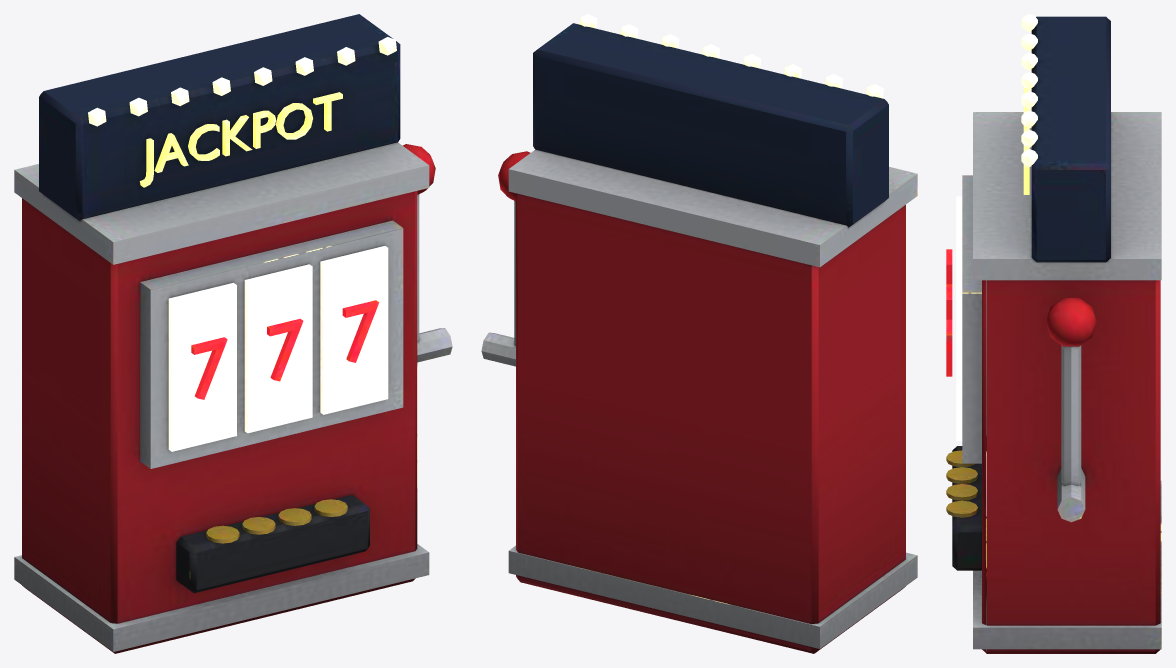
Rendered from tragaperras.glb.
3 renders of one model, left to right at view 1: azimuth 30°, elevation 25°; view 2: azimuth 150°, elevation 25°; view 3: azimuth 270°, elevation 25°, orthographic. The views are drawn at different scales.
Parts seen in each view (by area): view 1: tragaperras; view 2: tragaperras; view 3: tragaperras.
Part boxes in pixels (x1,y1,x2,y2): tragaperras: (14,14,452,653); tragaperras: (481,14,917,653); tragaperras: (946,14,1161,653).
Size of the model in its own units: 2.15 by 2.8 by 1.08.
1 material, 1 textured.
